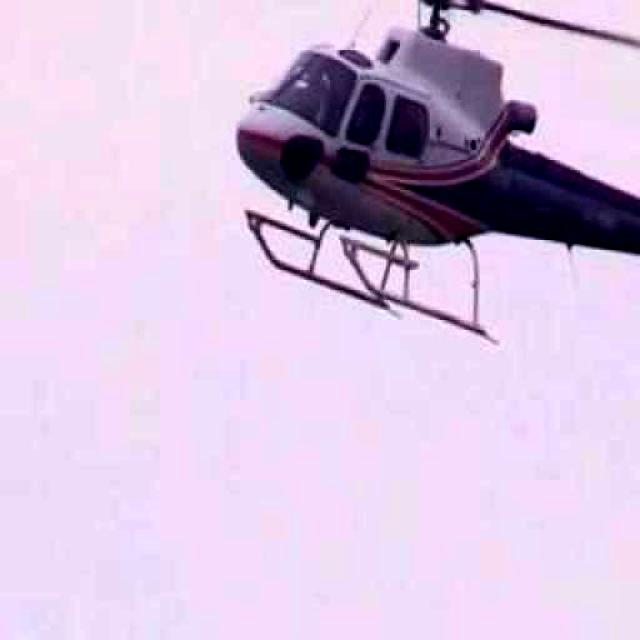drone: (126, 0, 640, 399)
